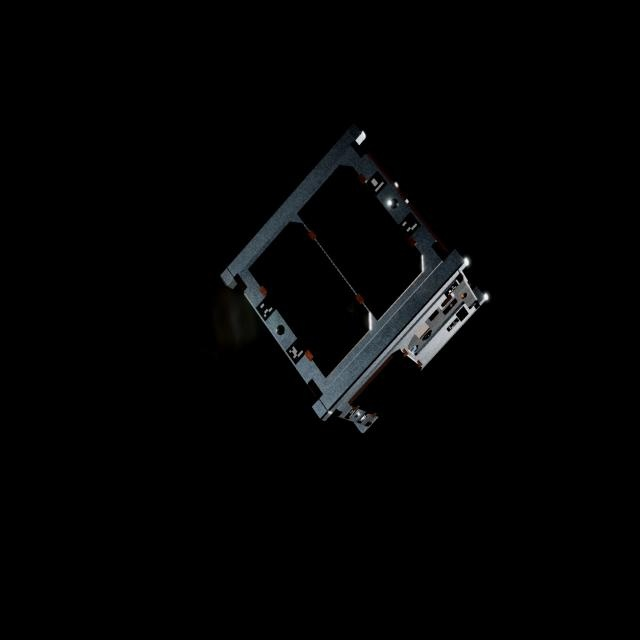satellite: (221, 115, 495, 442)
